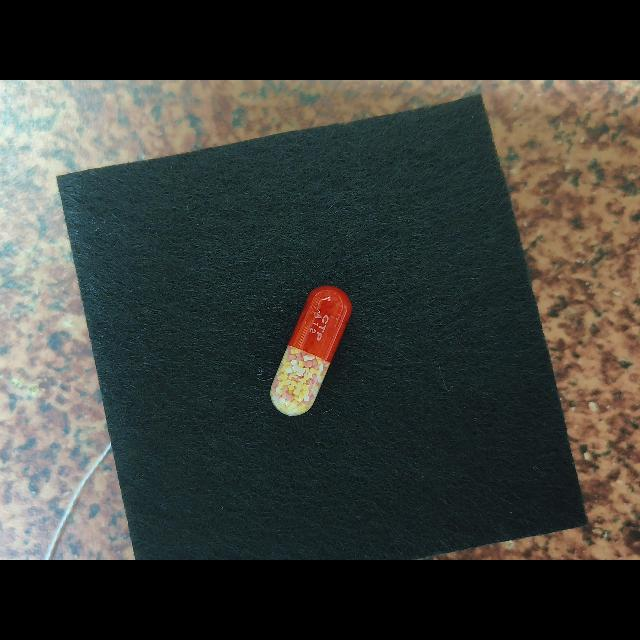Intact Capsule: (270, 286, 352, 416)
